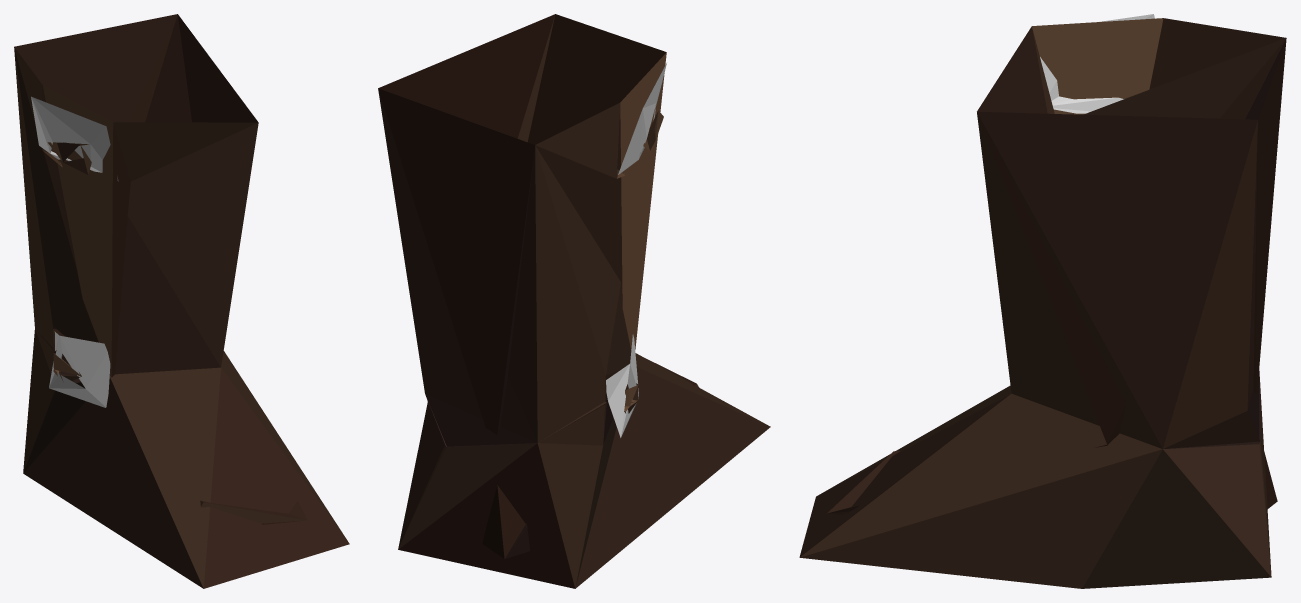
Rendered from aiwpn_boots_lo.glb.
3 views of the same model, side by side, from view 1: azimuth 30°, elevation 25°; view 2: azimuth 150°, elevation 25°; view 3: azimuth 270°, elevation 25° (orthographic). The views are drawn at different scales.
Parts seen in each view (by area): view 1: ca_aiwpn_boots_lo; view 2: ca_aiwpn_boots_lo; view 3: ca_aiwpn_boots_lo.
Part boxes in pixels (x1,y1,x2,y2): ca_aiwpn_boots_lo: (14,14,349,588); ca_aiwpn_boots_lo: (378,14,770,588); ca_aiwpn_boots_lo: (799,14,1286,588).
Bounding box in the file's own units: 0.1912 × 0.3949 × 0.3581.
